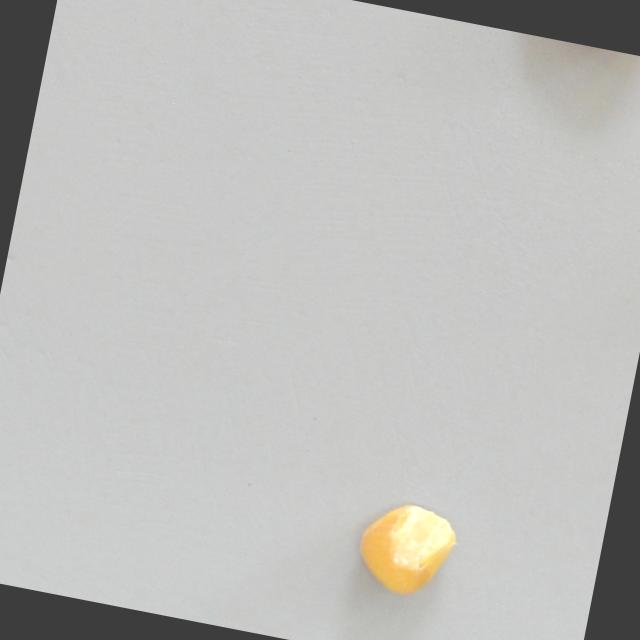no_desgerminado: (351, 496, 463, 604)
